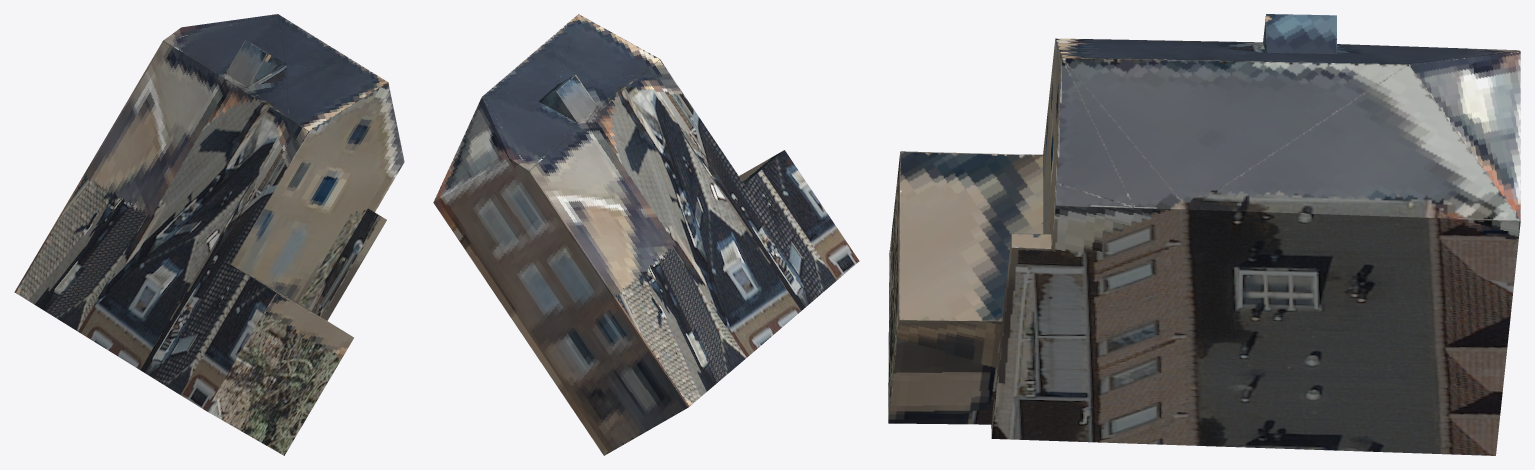
The picture shows the model from 3 angles, left to right: view 1: azimuth 30°, elevation 25°; view 2: azimuth 150°, elevation 25°; view 3: azimuth 270°, elevation 25°; orthographic projection. The views are drawn at different scales.
Parts seen in each view (by area): view 1: BAG_0599100000760417 (×4); view 2: BAG_0599100000760417 (×4); view 3: BAG_0599100000760417 (×6).
Part boxes in pixels (x1,y1,x2,y2): BAG_0599100000760417 (×4): [14, 14, 404, 455]; BAG_0599100000760417 (×4): [433, 14, 859, 455]; BAG_0599100000760417 (×6): [888, 14, 1520, 455].
Bounding box in the file's own units: 12.12 × 14.26 × 15.57.
Materials: 8 (7 with a texture image).
